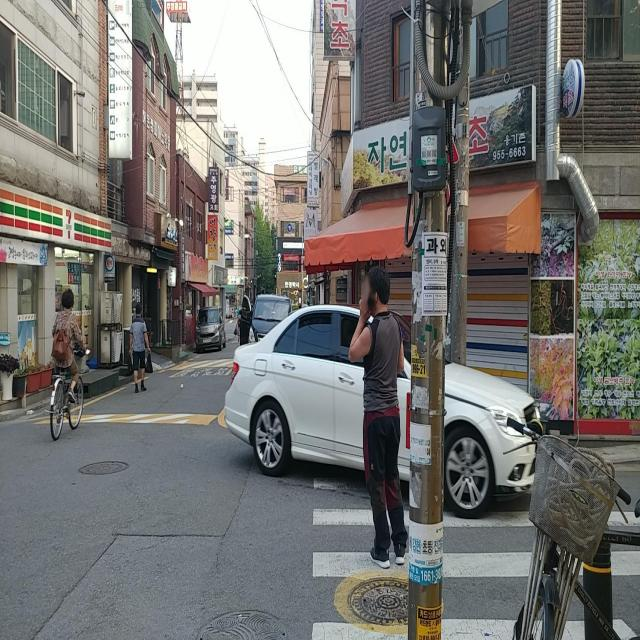횡단보도: (310, 474, 640, 640)
